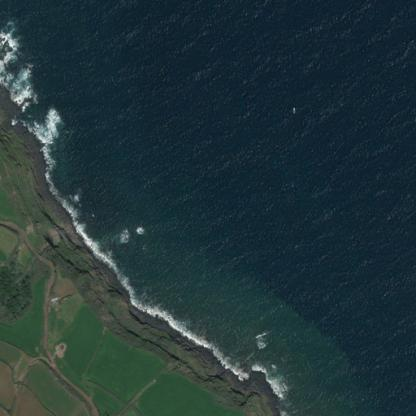ship: (285, 100, 301, 118)
